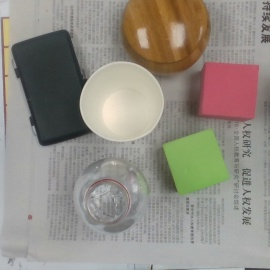bottle: (70, 158, 149, 235)
chess: (121, 1, 212, 72)
cup: (80, 61, 164, 144)
